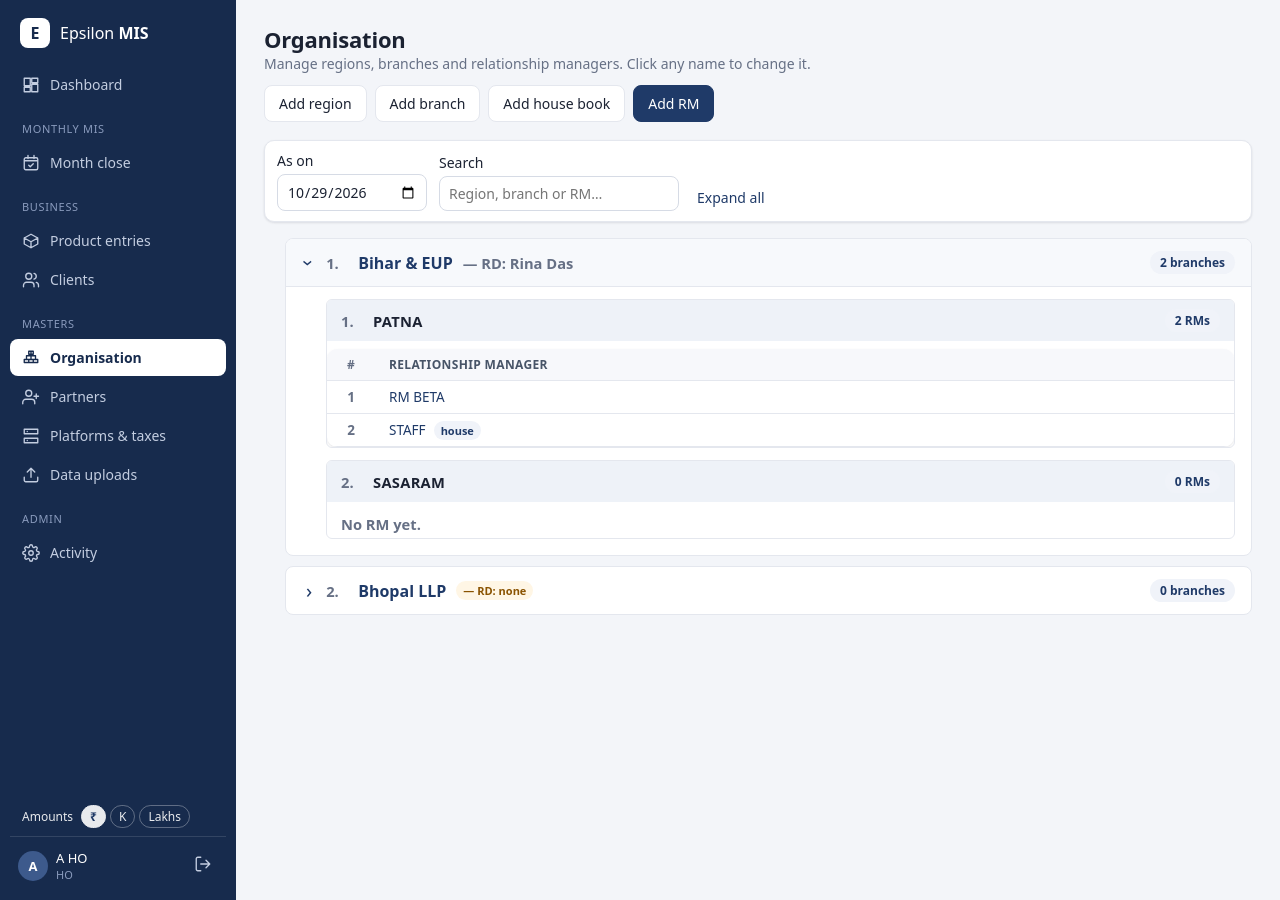
Test case: org › shows the org as a Region → Branch → RM tree and opens a simple "move from date" panel for an RM
Expected: the button "RM BETA" is shown, [389,388,445,406]
Expected: the text "house" is shown, [434,421,481,440]
Click the button named "Expand Bhopal LLP" at (309,590), box [302,580,316,600]
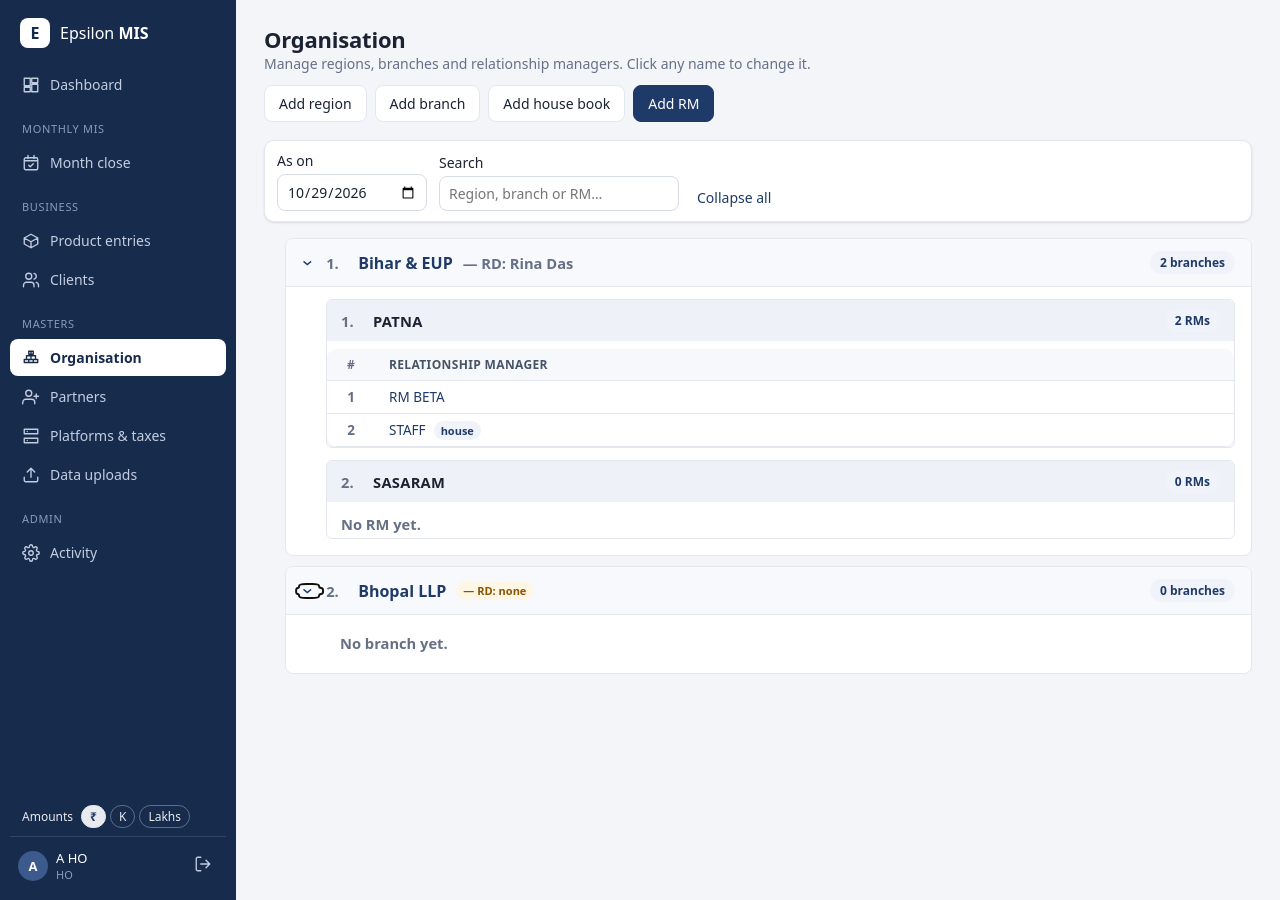
Now the text "No branch yet." is shown, box [340,633,448,653]
Click the button "RM BETA" at (417,397), box [389,388,445,406]
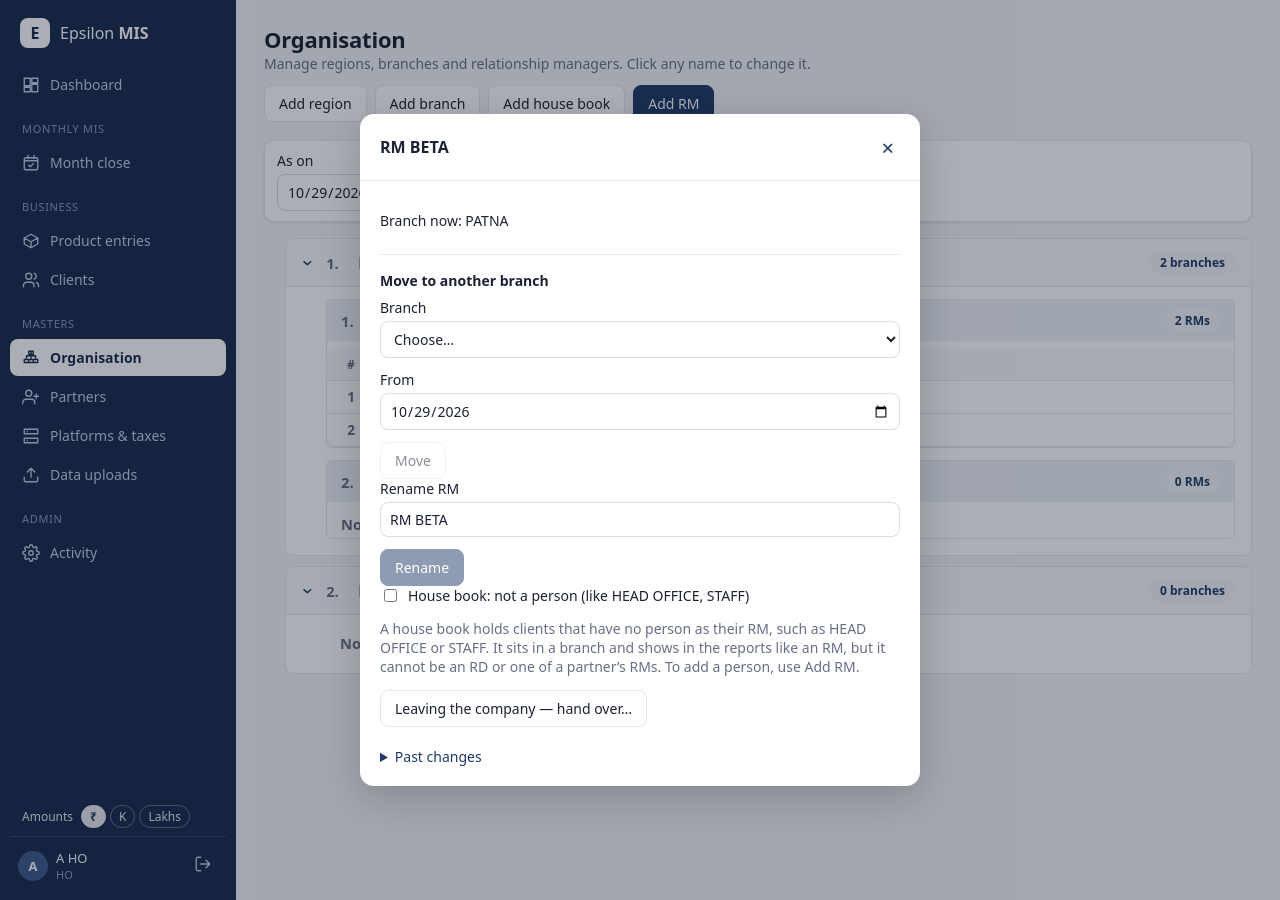
Now the text "Branch now: PATNA" is shown, box [380,211,508,230]
Now the heading "Move to another branch" is shown, box [380,271,549,290]
